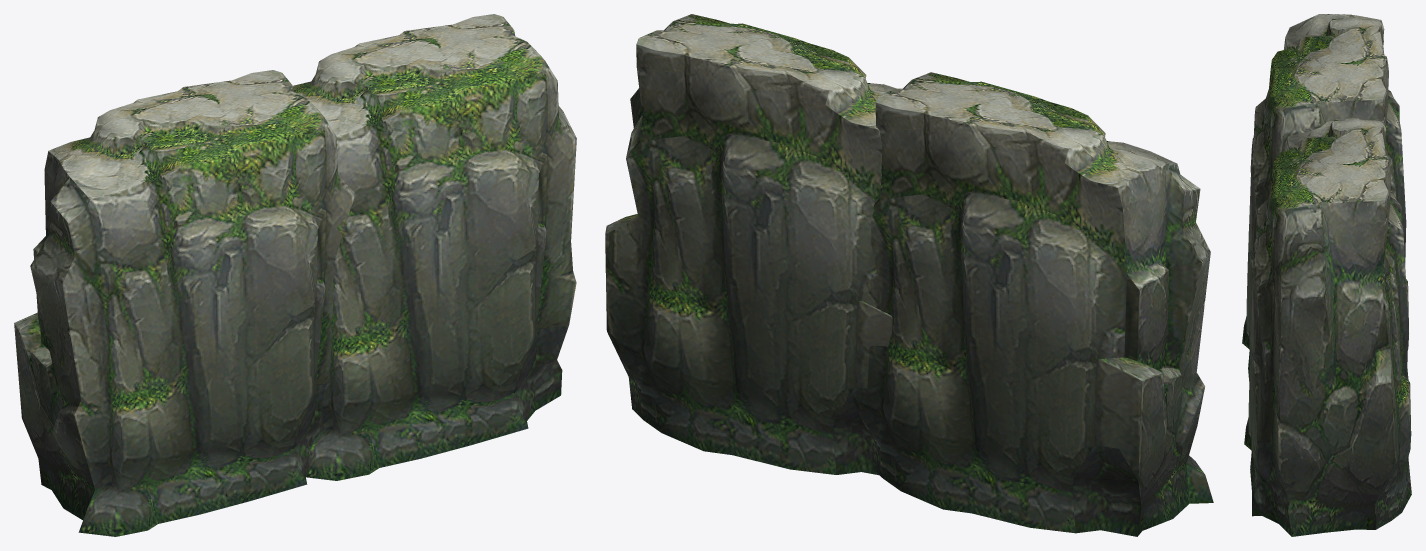
File: 4006_Item_shitou_6.FBX
3 views of the same model, side by side, from view 1: azimuth 30°, elevation 25°; view 2: azimuth 150°, elevation 25°; view 3: azimuth 270°, elevation 25° (orthographic). The views are drawn at different scales.
Visible parts, largest first — view 1: 4006_Item_shitou_6; view 2: 4006_Item_shitou_6; view 3: 4006_Item_shitou_6.
Boxes of the visible parts, x1,y1,x2,y2 form: 4006_Item_shitou_6: (14,14,576,536); 4006_Item_shitou_6: (605,14,1213,536); 4006_Item_shitou_6: (1242,14,1411,536).
Bounding box in the file's own units: 1621 × 1053 × 475.
